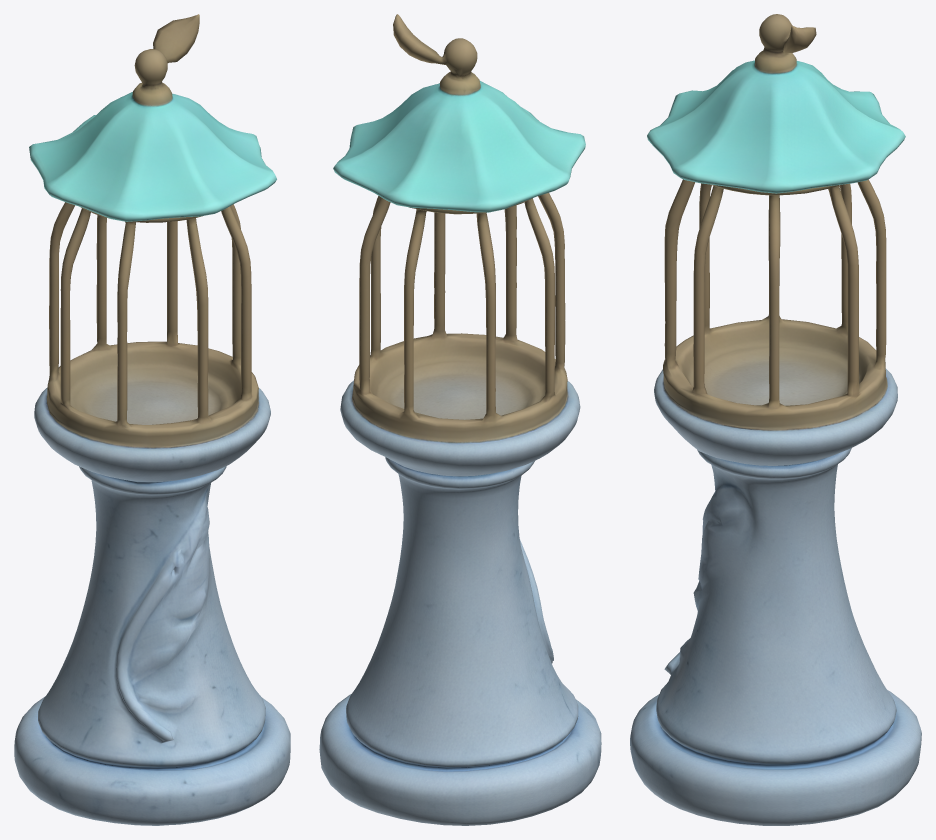
File: lantern.glb
The picture shows the model from 3 angles, left to right: view 1: azimuth 30°, elevation 25°; view 2: azimuth 150°, elevation 25°; view 3: azimuth 270°, elevation 25°; orthographic projection. The views are drawn at different scales.
Visible parts, largest first — view 1: model; view 2: model; view 3: model.
Part boxes in pixels (x1=…): model: x1=14, y1=14, x2=290, y2=825; model: x1=319, y1=14, x2=601, y2=825; model: x1=630, y1=14, x2=921, y2=825.
Size of the model in its own units: 0.6436 by 1.9 by 0.6491.
Materials: 1 (1 with a texture image).
